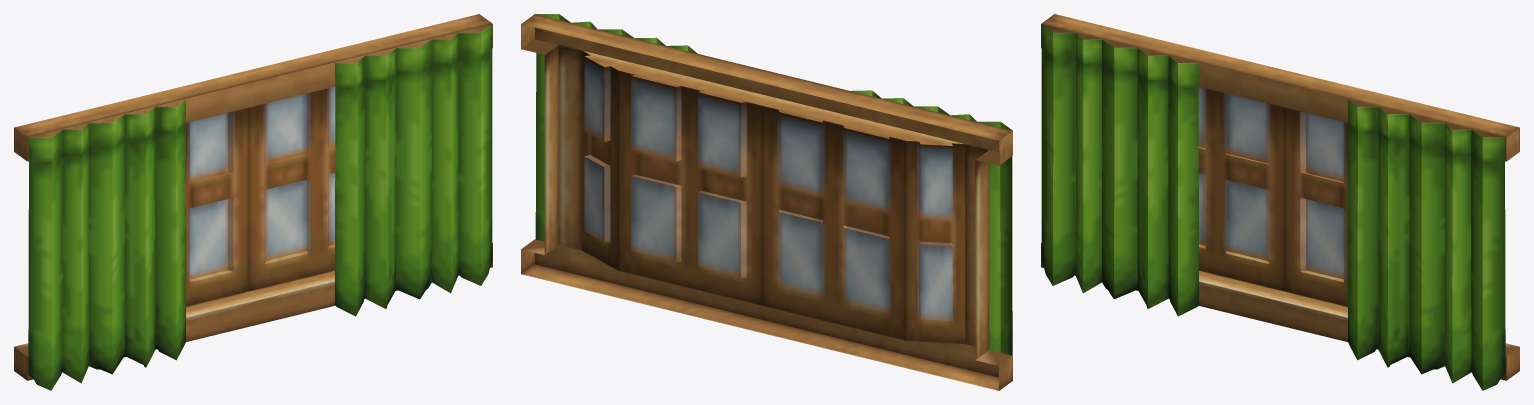
Rendered from Inside_Poly_Window_02.obj.
3 renders of one model, left to right at view 1: azimuth 30°, elevation 25°; view 2: azimuth 150°, elevation 25°; view 3: azimuth 330°, elevation 25°, orthographic. The views are drawn at different scales.
Visible parts, largest first — view 1: Plane, Cube_Cube.003; view 2: Cube_Cube.003, Plane; view 3: Plane, Cube_Cube.003.
Part boxes in pixels (x1=…): Plane: x1=28, y1=24, x2=492, y2=390; Cube_Cube.003: x1=14, y1=14, x2=492, y2=380; Cube_Cube.003: x1=521, y1=14, x2=1012, y2=390; Plane: x1=535, y1=14, x2=1012, y2=355; Plane: x1=1041, y1=24, x2=1505, y2=390; Cube_Cube.003: x1=1041, y1=14, x2=1519, y2=380.
Bounding box in the file's own units: 2 × 1.04 × 0.1447.
1 material, 1 textured.
